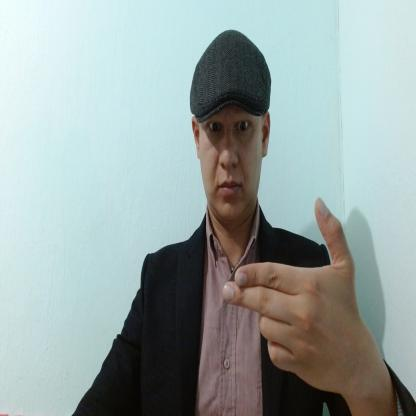H: (223, 197, 357, 396)
